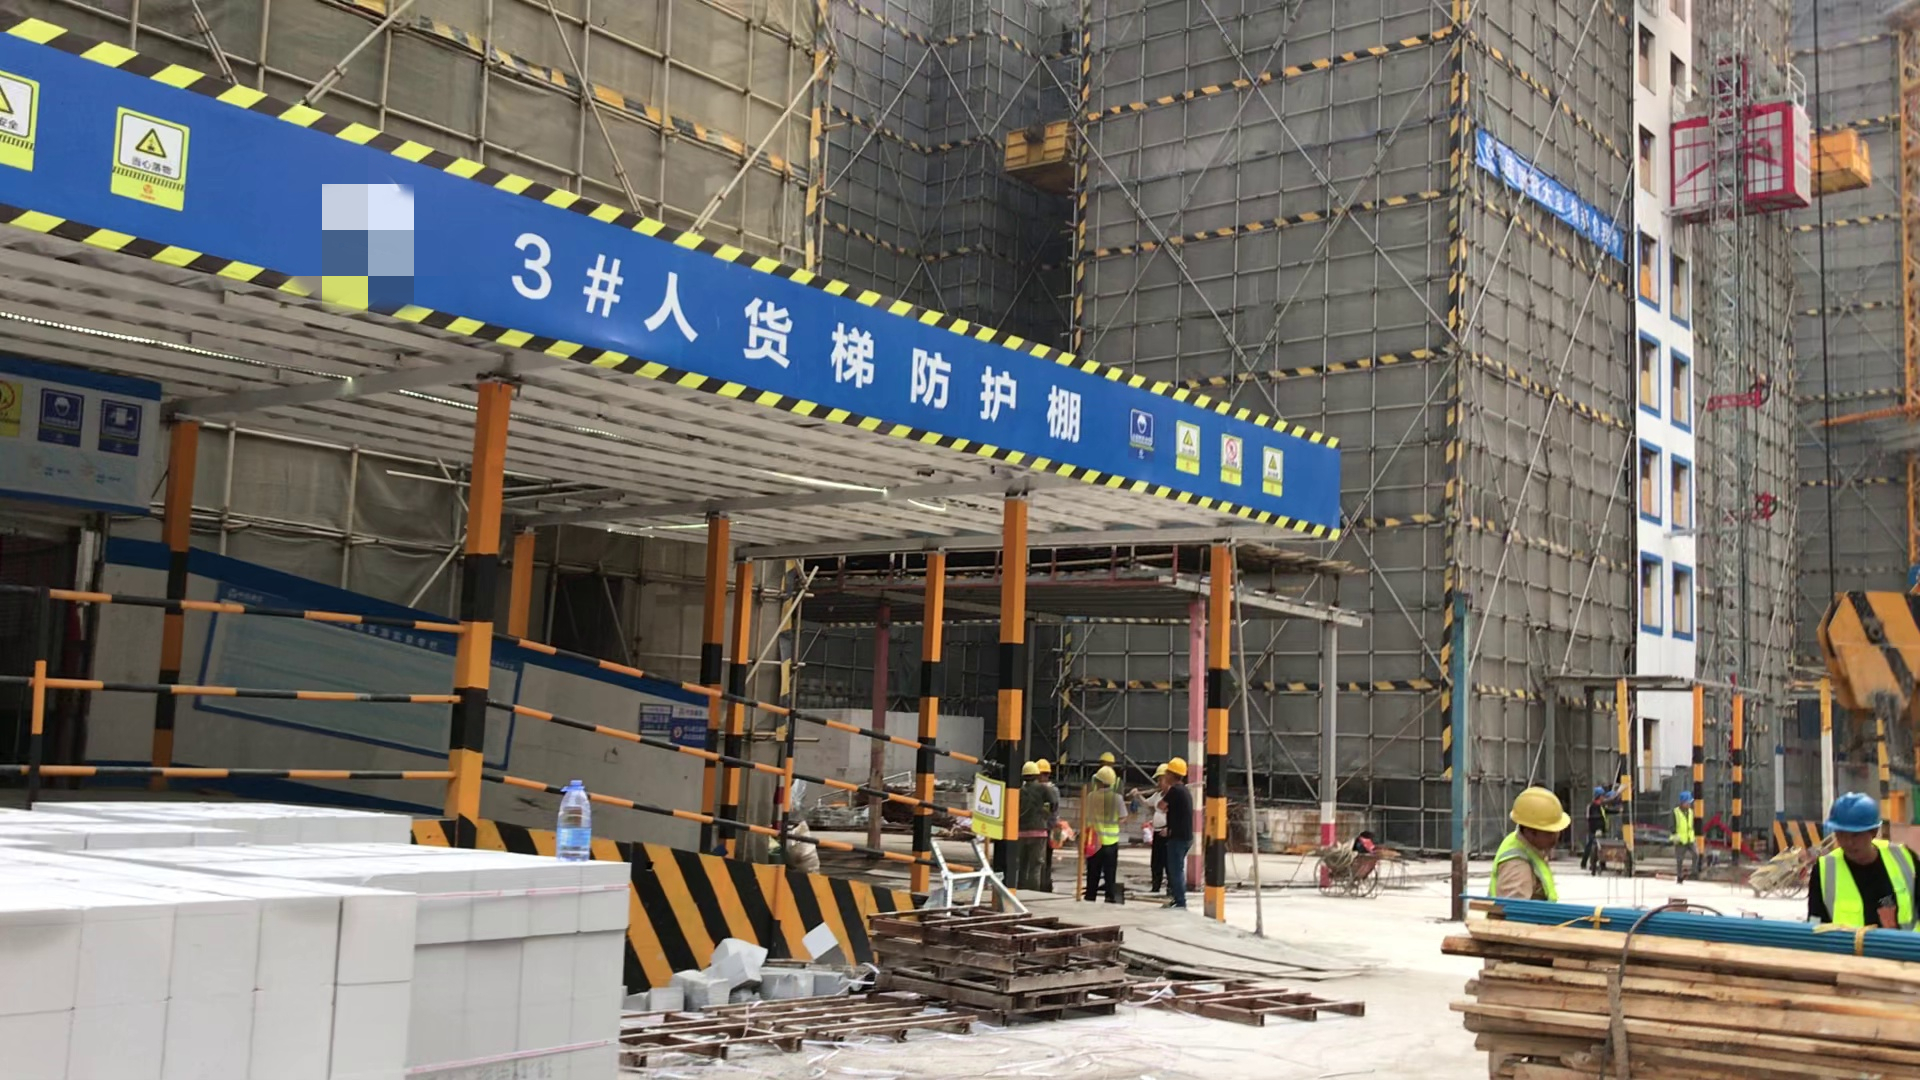brick: (7, 815, 649, 1080)
handcart: (1314, 840, 1401, 900), (1750, 834, 1827, 894), (1590, 836, 1632, 879)
helmet: (1511, 783, 1573, 837), (1820, 789, 1883, 837), (1154, 756, 1189, 777), (1024, 757, 1050, 780), (1092, 767, 1118, 784), (1099, 750, 1117, 763), (1678, 791, 1695, 805), (1590, 786, 1608, 799)
hook: (1811, 577, 1920, 756)
person: (1803, 791, 1920, 933), (1496, 784, 1573, 907), (1143, 758, 1194, 909), (1082, 765, 1127, 905), (1023, 752, 1060, 889), (1670, 790, 1703, 883), (1585, 785, 1614, 836)
slogan: (1470, 114, 1636, 268), (1127, 393, 1297, 497), (19, 379, 143, 470), (117, 109, 188, 207), (964, 768, 1005, 848)
vest: (1815, 847, 1919, 928), (1494, 833, 1554, 905), (1089, 792, 1121, 848), (1671, 808, 1695, 848)
wood: (1446, 909, 1920, 1080)
